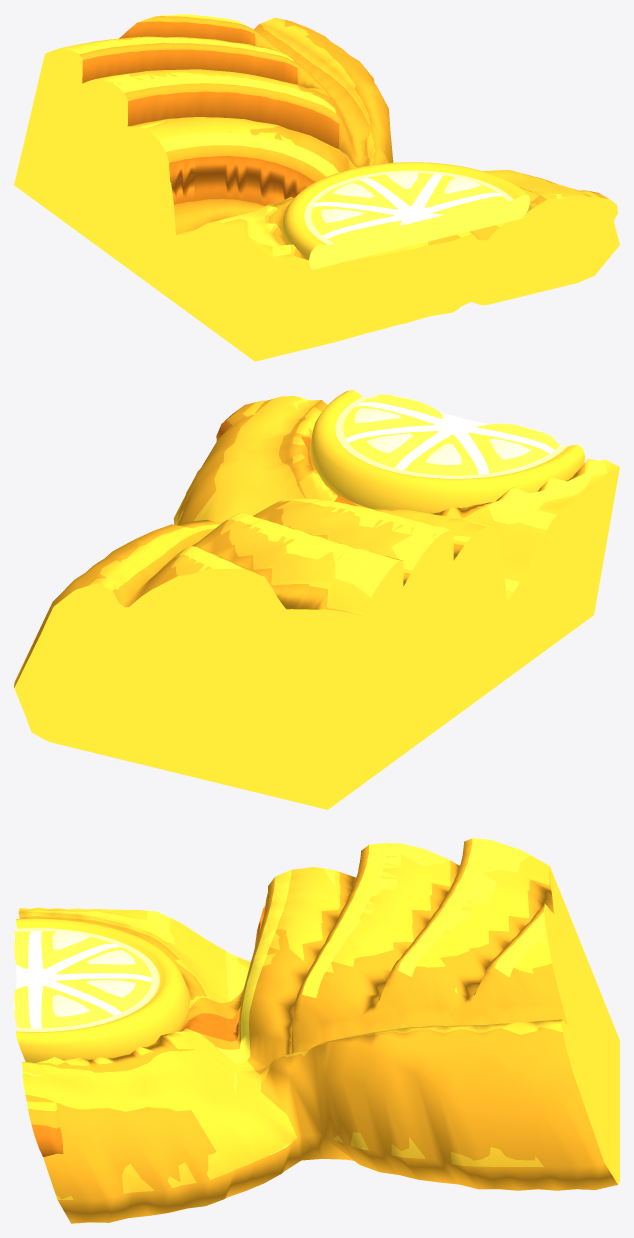
The model's file is lemon_beetle_mr.glb.
The picture shows the model from 3 angles, top to bottom: view 1: azimuth 30°, elevation 25°; view 2: azimuth 150°, elevation 25°; view 3: azimuth 270°, elevation 25°; orthographic projection. The views are drawn at different scales.
Visible parts, largest first — view 1: lemon_beetle_mr; view 2: lemon_beetle_mr; view 3: lemon_beetle_mr.
Part boxes in pixels (bbox=[...]): lemon_beetle_mr: bbox=[14, 14, 619, 361]; lemon_beetle_mr: bbox=[14, 390, 619, 809]; lemon_beetle_mr: bbox=[14, 838, 619, 1223].
Bounding box in the file's own units: 24 × 11.45 × 31.02.
